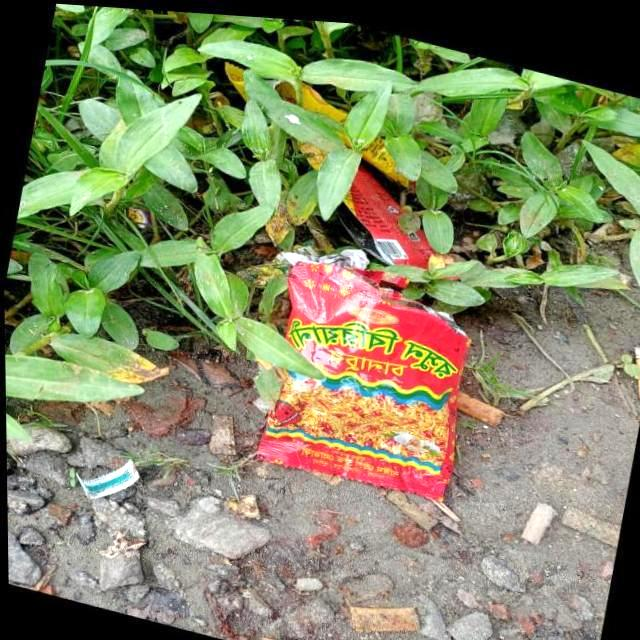packet: (234, 242, 491, 510), (316, 134, 438, 265)
